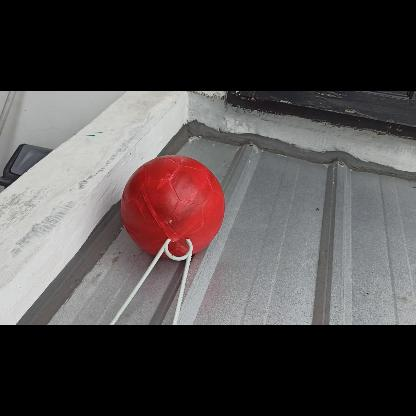red_ball: (122, 154, 226, 258)
